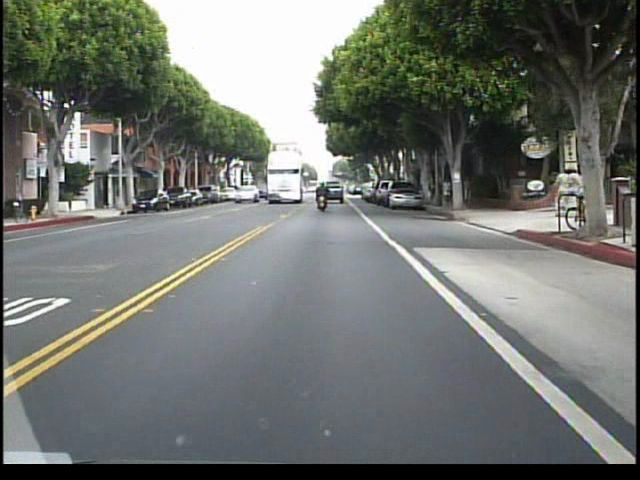person: (313, 177, 332, 221), (440, 174, 452, 207), (464, 175, 474, 207), (455, 173, 464, 206)
